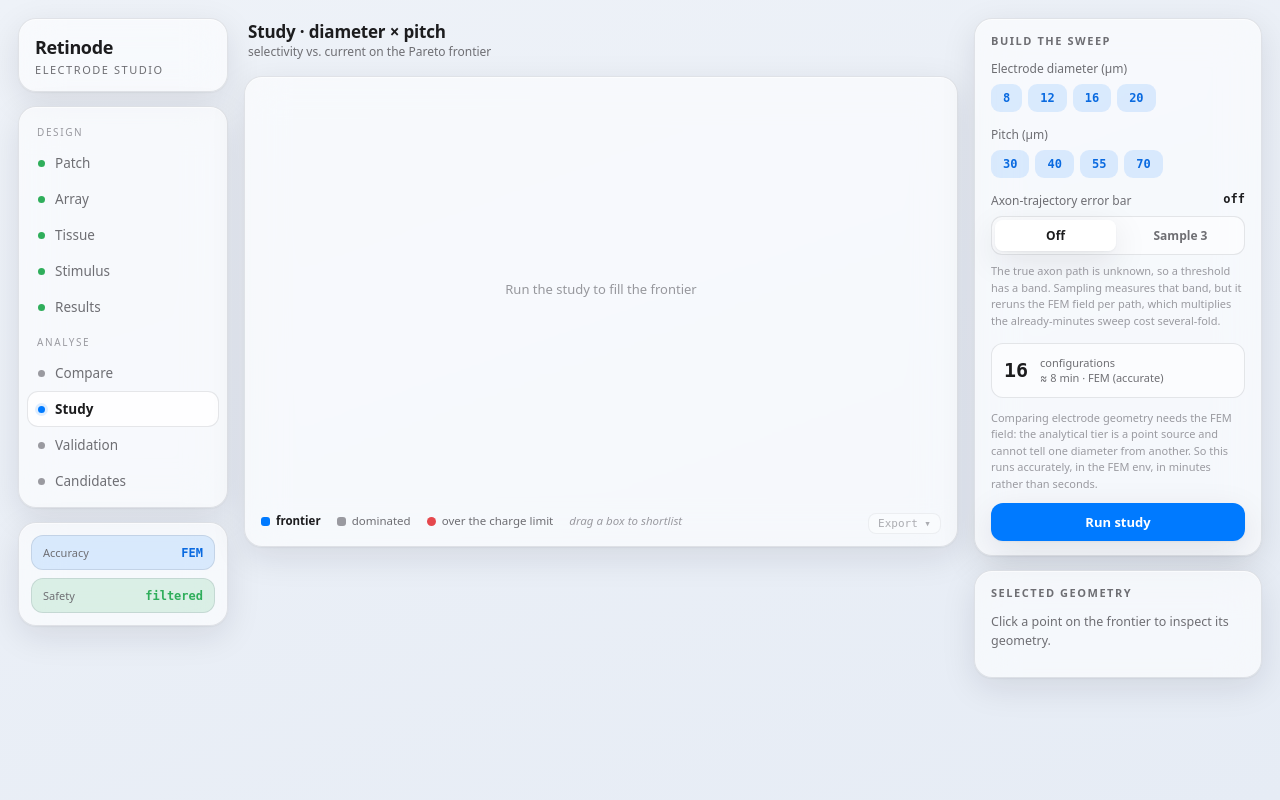
Test: Study › runs the sweep and reports the frontier
Step 1. Click the button "Run study" → x=1118, y=522, box [991,503,1245,541]
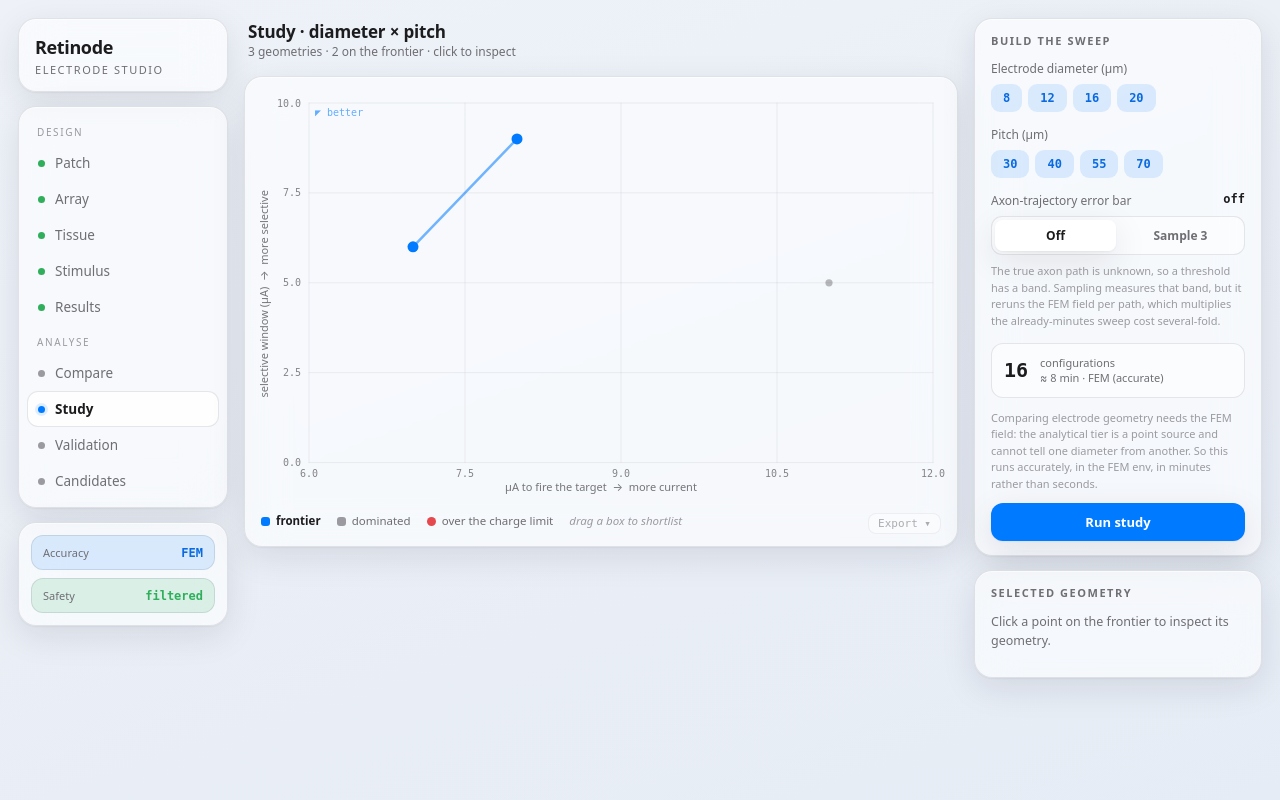
Expected: the text "3 geometries · 2 on the frontier · click to inspect" is shown, [248,43,516,60]
